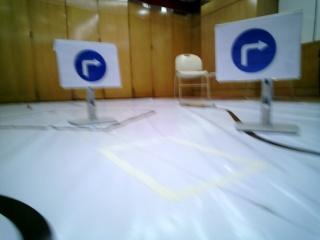right: (217, 27, 297, 76), (57, 37, 118, 83)
